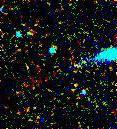star: (60, 70, 90, 100)
